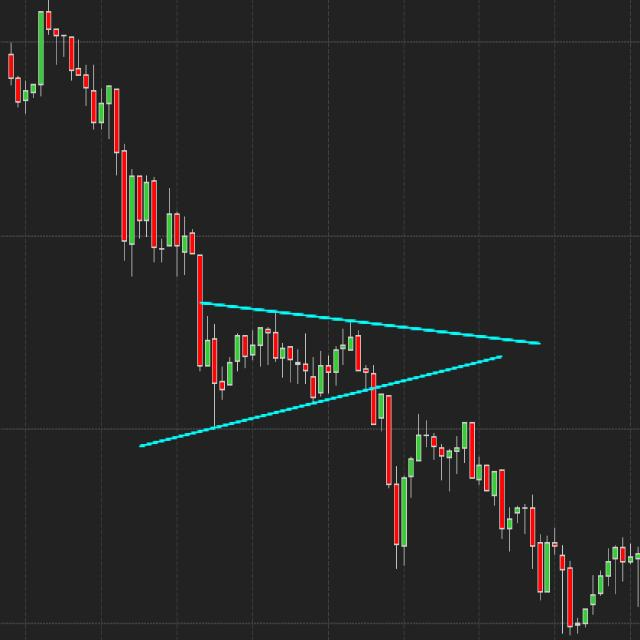Triangle: (157, 295, 494, 437)
